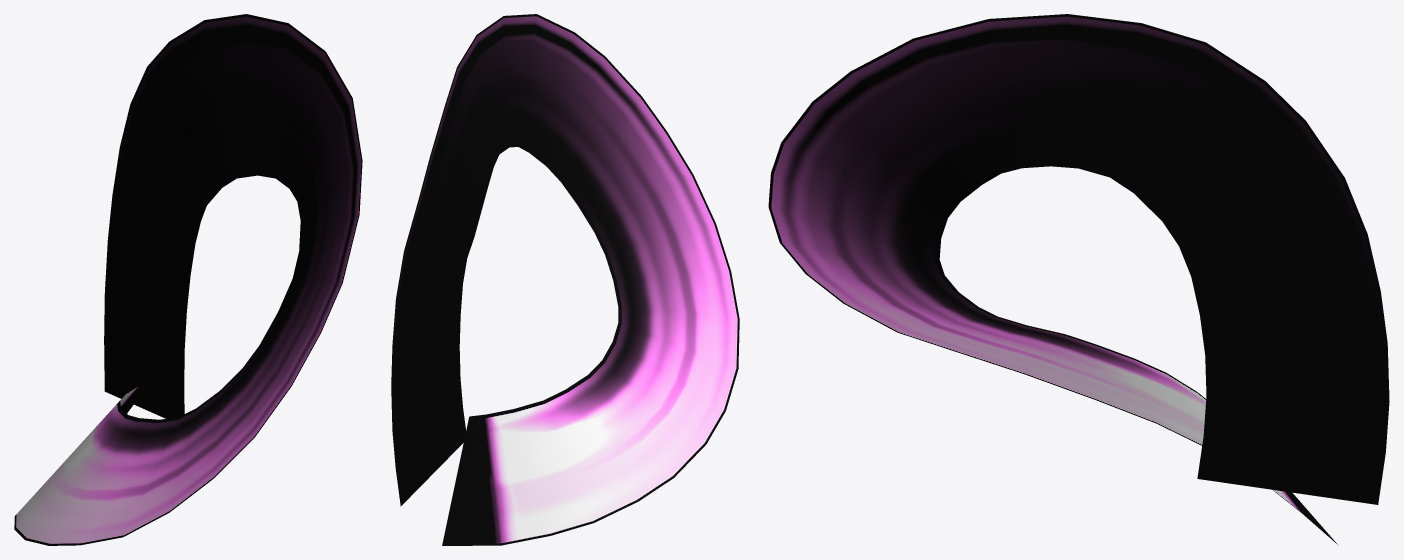
File: Mesh_Snowwhite_009_wjl.FBX
The picture shows the model from 3 angles, left to right: view 1: azimuth 30°, elevation 25°; view 2: azimuth 150°, elevation 25°; view 3: azimuth 270°, elevation 25°; orthographic projection. The views are drawn at different scales.
Visible parts, largest first — view 1: Plane002; view 2: Plane002; view 3: Plane002.
Boxes of the visible parts, box(x1,y1,x2,y2) form: Plane002: box(14, 14, 362, 545); Plane002: box(391, 14, 739, 545); Plane002: box(768, 14, 1389, 544).
Size of the model in its own units: 131 by 244 by 239.
